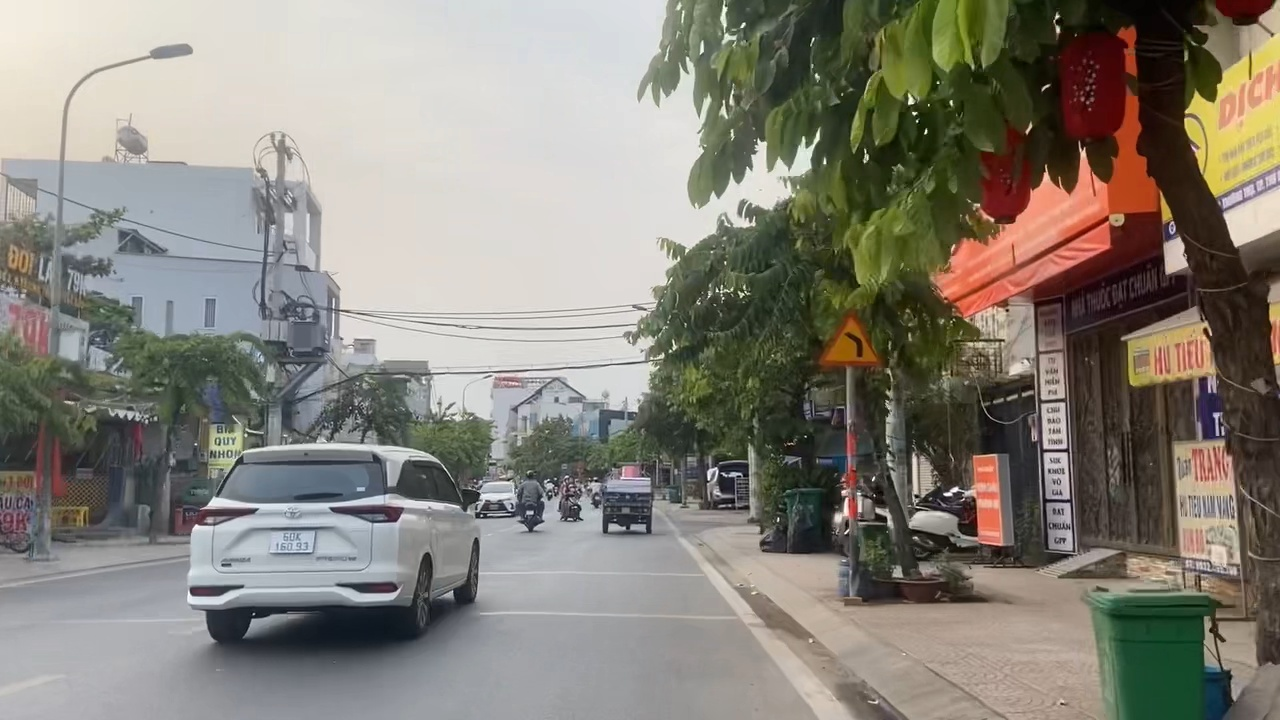duong_nghieng_trai: (817, 310, 884, 371)
